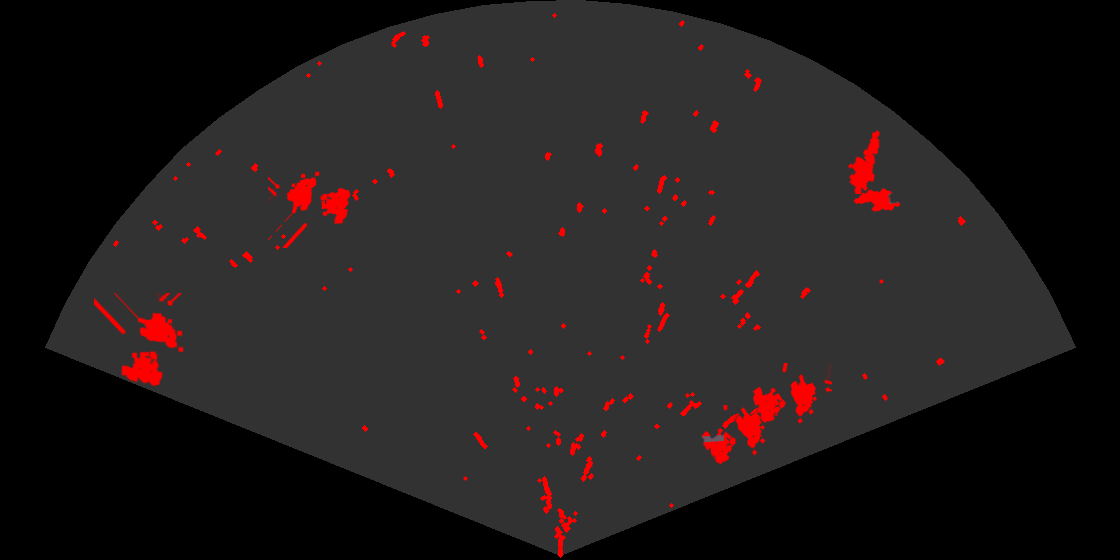AUV: (852, 187, 902, 213)
cage: (94, 293, 185, 388), (268, 170, 352, 248), (751, 363, 832, 425), (700, 405, 778, 466)
frogman: (846, 129, 882, 194)
